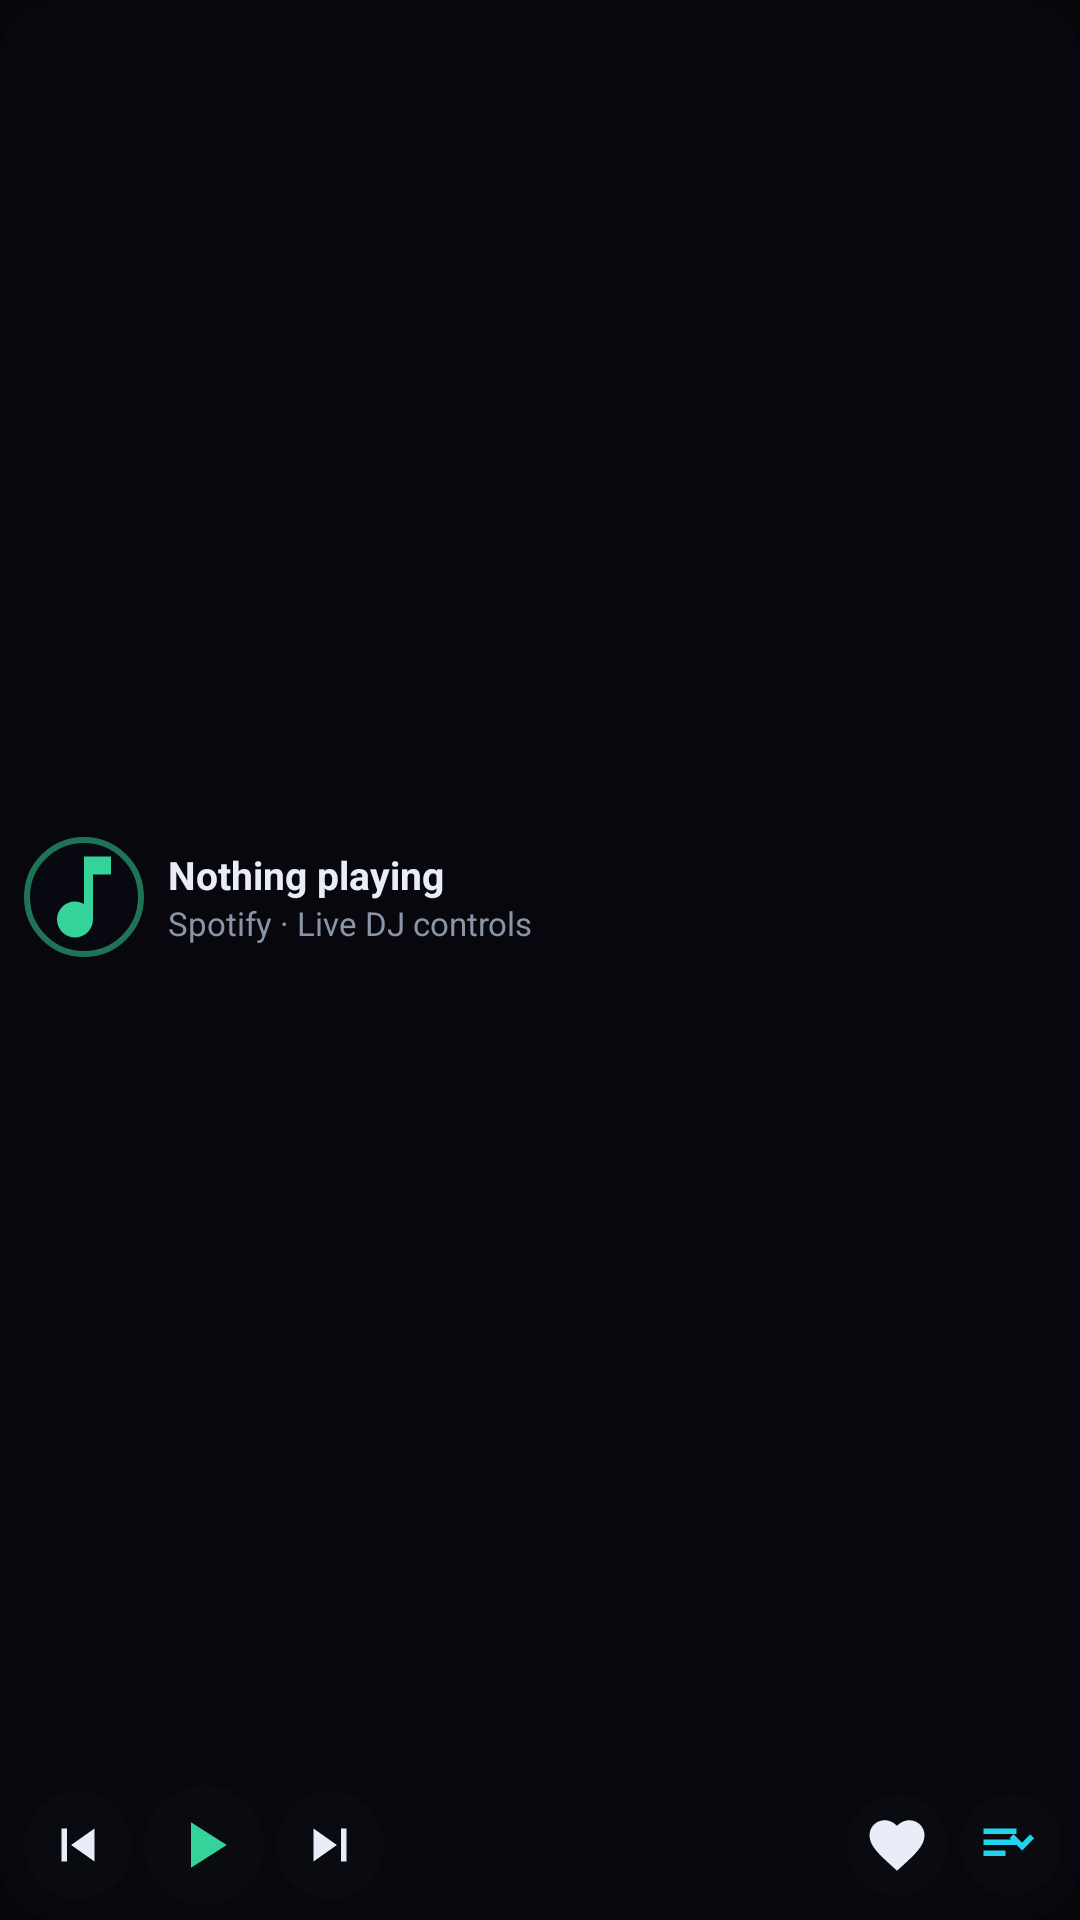

Named icons in this screenshot (1080 × 1920) and their centers, [x,y]:
Like: [897,1845]
Next: [330,1845]
Play or pause: [209,1845]
Previous: [78,1845]
